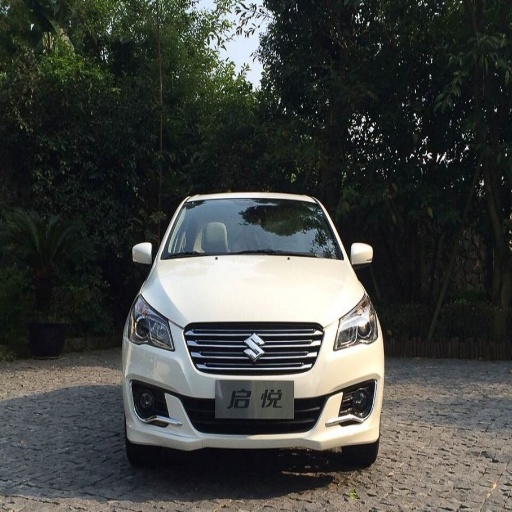front_bumper: (124, 319, 382, 450)
front_right_light: (129, 297, 174, 349)
hood: (145, 255, 363, 323)
